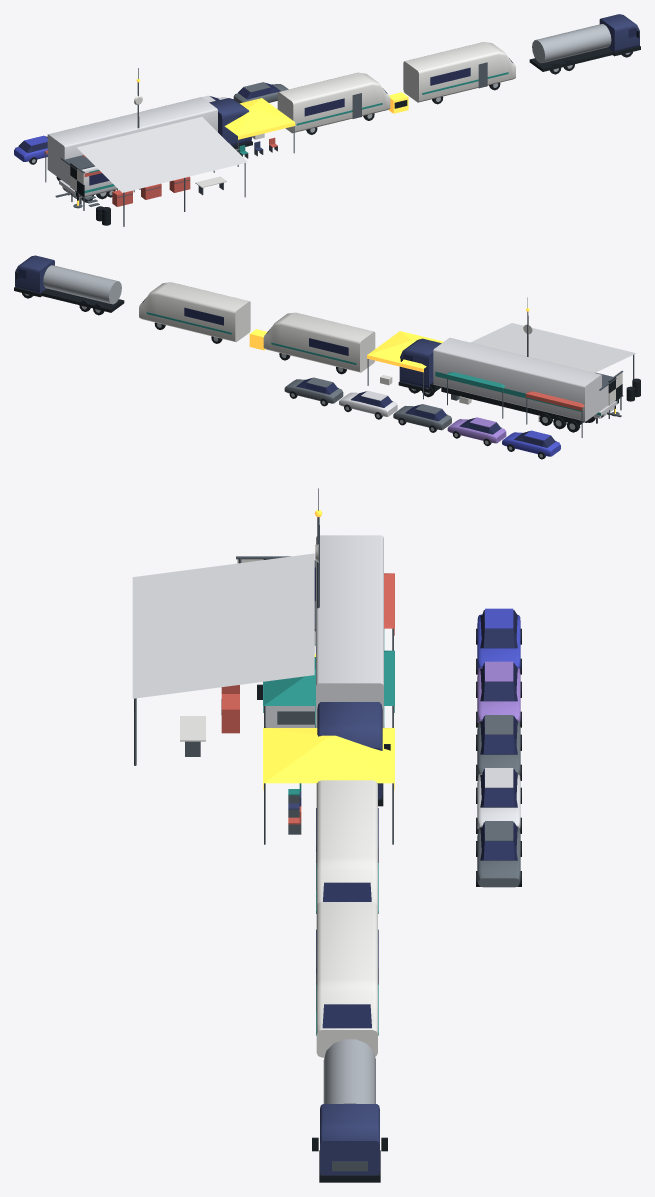
File: saltflat.glb
The picture shows the model from 3 angles, top to bottom: view 1: azimuth 30°, elevation 25°; view 2: azimuth 150°, elevation 25°; view 3: azimuth 270°, elevation 25°; orthographic projection. The views are drawn at different scales.
Parts seen in each view (by area): view 1: TeamCamp, ViewingArea, TimingHut, KmBoard, RecoveryTruck; view 2: TeamCamp, ViewingArea, TimingHut, KmBoard; view 3: TeamCamp, ViewingArea, RecoveryTruck.
Part boxes in pixels (bbox=[...]): TeamCamp: bbox=[47, 14, 640, 226]; ViewingArea: bbox=[14, 82, 295, 192]; TimingHut: bbox=[55, 68, 142, 206]; KmBoard: bbox=[69, 162, 85, 210]; RecoveryTruck: bbox=[59, 180, 114, 202]; TeamCamp: bbox=[14, 255, 640, 432]; ViewingArea: bbox=[284, 331, 614, 459]; TimingHut: bbox=[523, 297, 621, 423]; KmBoard: bbox=[608, 370, 623, 418]; TeamCamp: bbox=[132, 535, 390, 1182]; ViewingArea: bbox=[263, 573, 521, 887]; RecoveryTruck: bbox=[257, 645, 315, 727].
Bounding box in the file's own units: 51.68 × 9.2 × 14.89.
